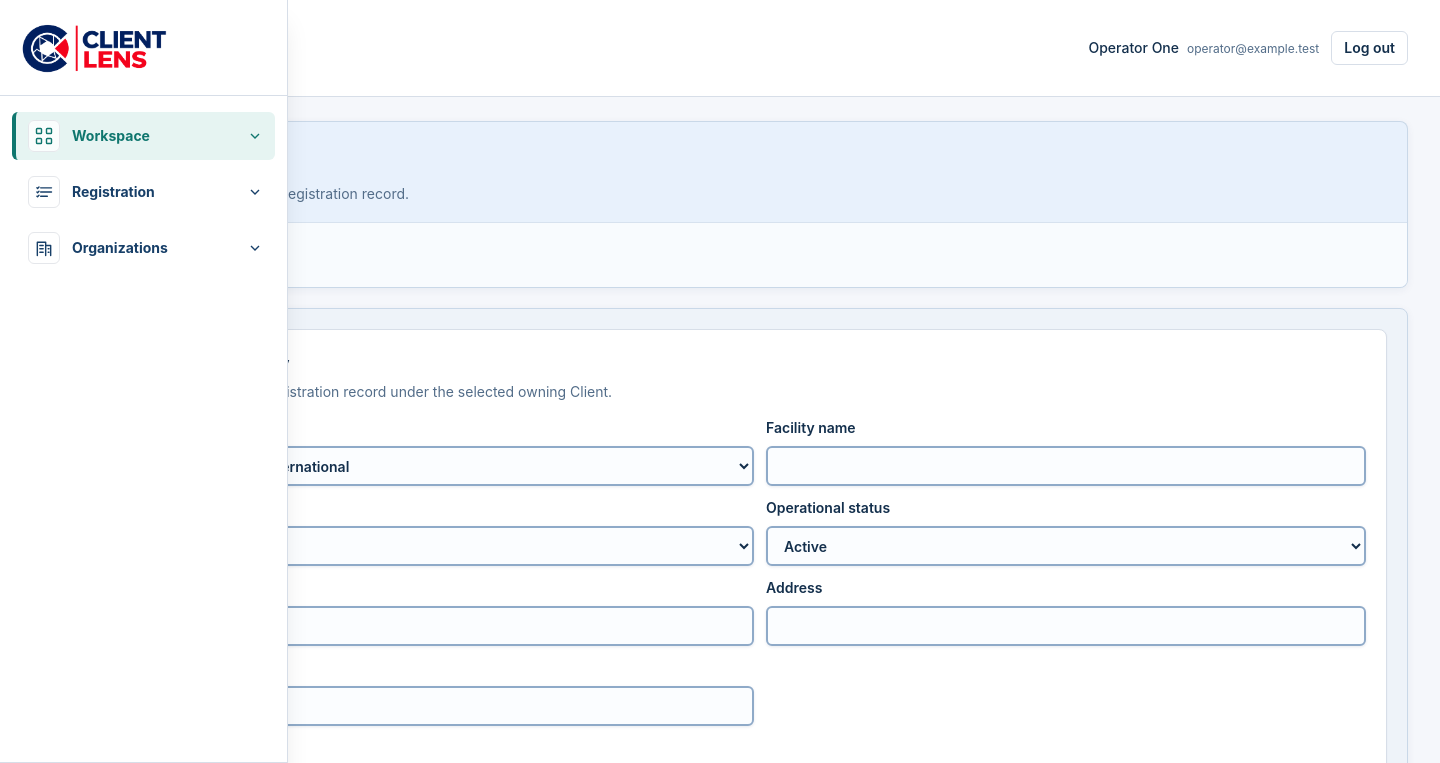
Scenario: Registration Facilities frontend › cancels Register Facility input without mutation
The width and height of the screenshot is (1440, 763).
Type "Canceled facility" into the field labelled "Facility name" at (1066, 466), box [766,446,1366,486]
(page scrolled)
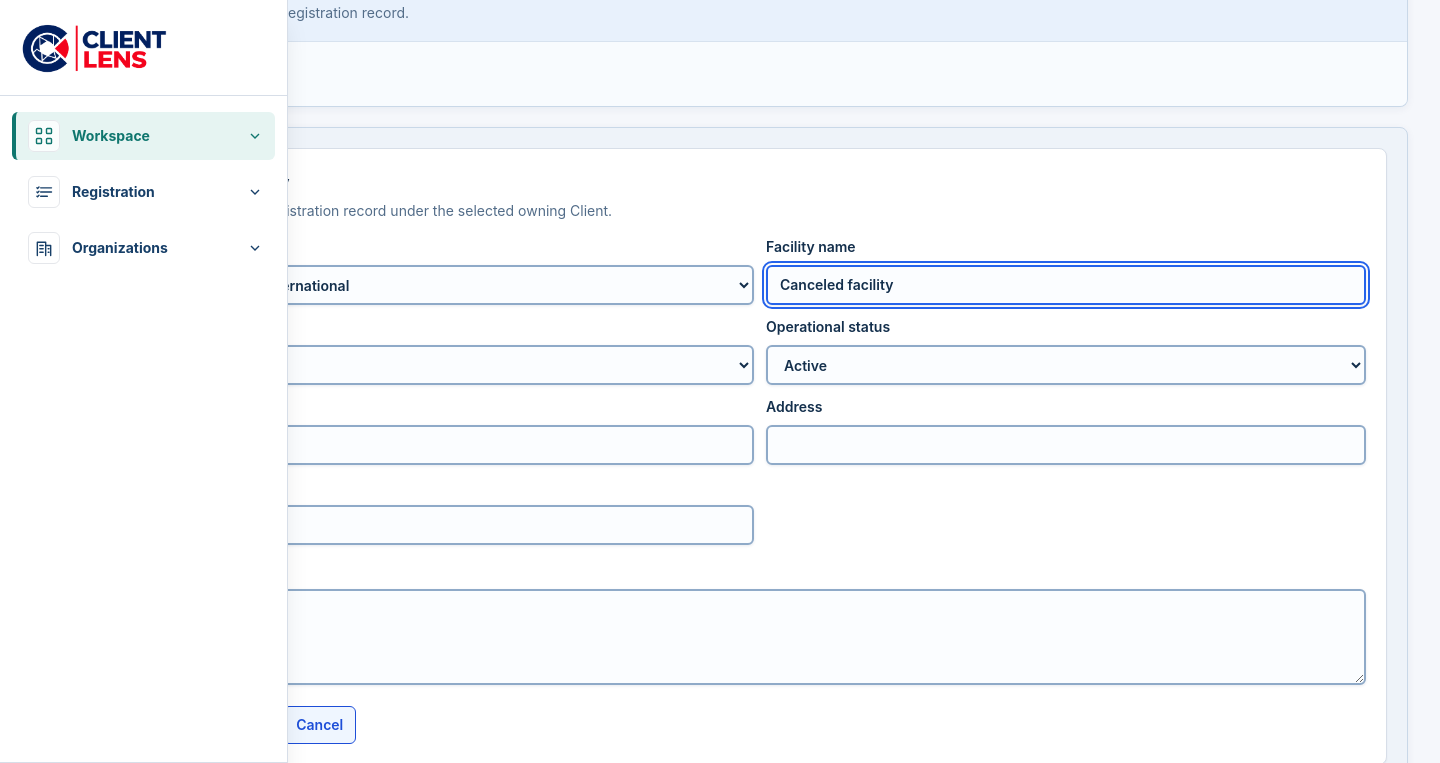
Click the button "Cancel" at (320, 725), box [283,706,356,744]
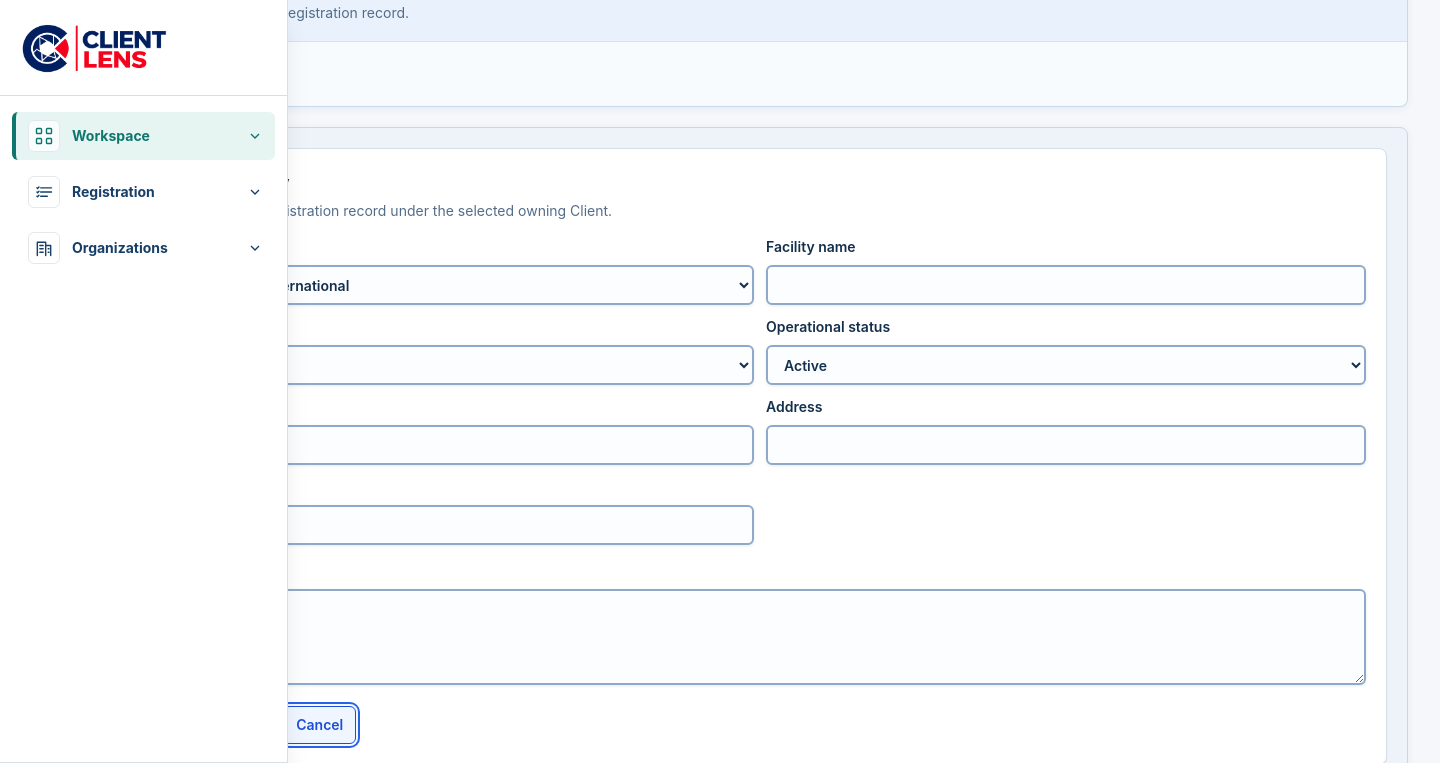
Expected: the field labelled "Facility name" is empty, [766,265,1366,305]
